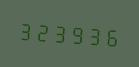nine: (69, 20, 85, 48)
six: (103, 22, 119, 50)
three: (17, 16, 33, 44), (52, 18, 68, 46), (86, 21, 102, 49)
two: (34, 17, 50, 45)
